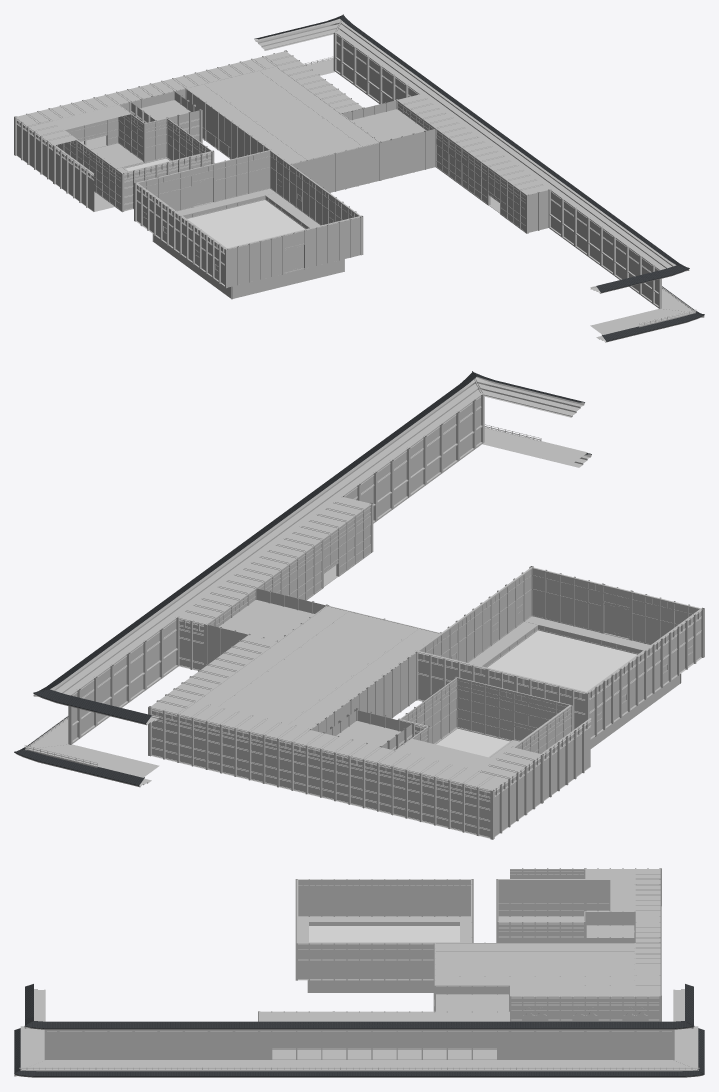
The picture shows the model from 3 angles, top to bottom: view 1: azimuth 30°, elevation 25°; view 2: azimuth 150°, elevation 25°; view 3: azimuth 270°, elevation 25°; orthographic projection. The views are drawn at different scales.
Parts seen in each view (by area): view 1: L2A5_2F-1_Wall_004, L2A5_2F-1_Wall_006, L2A5_2F-1_Wall_018, L2A5_2F-1_RoomCeiling_002, L2A5_2F-1_Wall_015, L2A5_2F-1_Wall_007, L2A5_2F-1_HallCeiling_003, L2A5_2F-1_Wall_002, WaterBase, L2A5_2F-1_HallCeiling_001, L2A5_2F-1_Floor_009, L2A5_2F-1_Wall_012 (+14 smaller); view 2: L2A5_2F-1_Wall_004, L2A5_2F-1_Wall_009, L2A5_2F-1_Wall_006, L2A5_2F-1_Wall_018, L2A5_2F-1_RoomCeiling_002, L2A5_2F-1_Wall_015, L2A5_2F-1_Wall_012, L2A5_2F-1_Floor_009, L2A5_2F-1_HallCeiling_003, WaterBase, L2A5_2F-1_Wall_002, L2A5_2F-1_HallCeiling_001 (+11 smaller); view 3: L2A5_2F-1_Wall_006, L2A5_2F-1_Floor_009, L2A5_2F-1_RoomCeiling_002, L2A5_2F-1_Wall_018, L2A5_2F-1_Wall_004, L2A5_2F-1_Wall_015, L2A5_2F-1_Wall_010, L2A5_2F-1_Wall_011, L2A5_2F-1_HallCeiling_003, WaterBase, L2A5_2F-1_HallCeiling_001, L2A5_2F-1_Wall_014 (+13 smaller).
Boxes of the visible parts, <box> form: L2A5_2F-1_Wall_004: <box>134,150,363,288</box>; L2A5_2F-1_Wall_006: <box>333,32,661,308</box>; L2A5_2F-1_Wall_018: <box>254,14,689,293</box>; L2A5_2F-1_RoomCeiling_002: <box>188,67,378,163</box>; L2A5_2F-1_Wall_015: <box>185,88,360,225</box>; L2A5_2F-1_Wall_007: <box>290,129,435,192</box>; L2A5_2F-1_HallCeiling_003: <box>16,56,275,126</box>; L2A5_2F-1_Wall_002: <box>14,116,94,211</box>; WaterBase: <box>187,200,304,248</box>; L2A5_2F-1_HallCeiling_001: <box>398,94,548,194</box>; L2A5_2F-1_Floor_009: <box>303,56,704,342</box>; L2A5_2F-1_Wall_012: <box>122,118,214,211</box>; L2A5_2F-1_Wall_004: <box>416,566,704,739</box>; L2A5_2F-1_Wall_009: <box>150,707,492,838</box>; L2A5_2F-1_Wall_006: <box>68,394,484,744</box>; L2A5_2F-1_Wall_018: <box>33,371,584,725</box>; L2A5_2F-1_RoomCeiling_002: <box>197,606,438,728</box>; L2A5_2F-1_Wall_015: <box>308,567,532,732</box>; L2A5_2F-1_Wall_012: <box>398,676,570,743</box>; L2A5_2F-1_Floor_009: <box>14,424,591,787</box>; L2A5_2F-1_HallCeiling_003: <box>178,702,508,790</box>; WaterBase: <box>488,630,636,691</box>; L2A5_2F-1_Wall_002: <box>490,718,591,839</box>; L2A5_2F-1_HallCeiling_001: <box>178,497,370,623</box>; L2A5_2F-1_Wall_006: <box>44,1011,674,1059</box>; L2A5_2F-1_Floor_009: <box>14,1026,704,1077</box>; L2A5_2F-1_RoomCeiling_002: <box>435,943,635,985</box>; L2A5_2F-1_Wall_018: <box>24,984,694,1029</box>; L2A5_2F-1_Wall_004: <box>295,879,473,980</box>; L2A5_2F-1_Wall_015: <box>297,942,635,980</box>; L2A5_2F-1_Wall_010: <box>496,879,610,916</box>; L2A5_2F-1_Wall_011: <box>510,995,661,1021</box>; L2A5_2F-1_HallCeiling_003: <box>635,869,660,985</box>; WaterBase: <box>309,926,459,942</box>; L2A5_2F-1_HallCeiling_001: <box>259,1012,509,1021</box>; L2A5_2F-1_Wall_014: <box>298,916,470,979</box>.
Size of the model in its own units: 12654 by 22029 by 2181.
